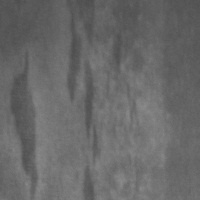inclusion: (64, 1, 102, 165), (8, 47, 41, 200), (107, 29, 129, 87), (78, 155, 98, 200)
